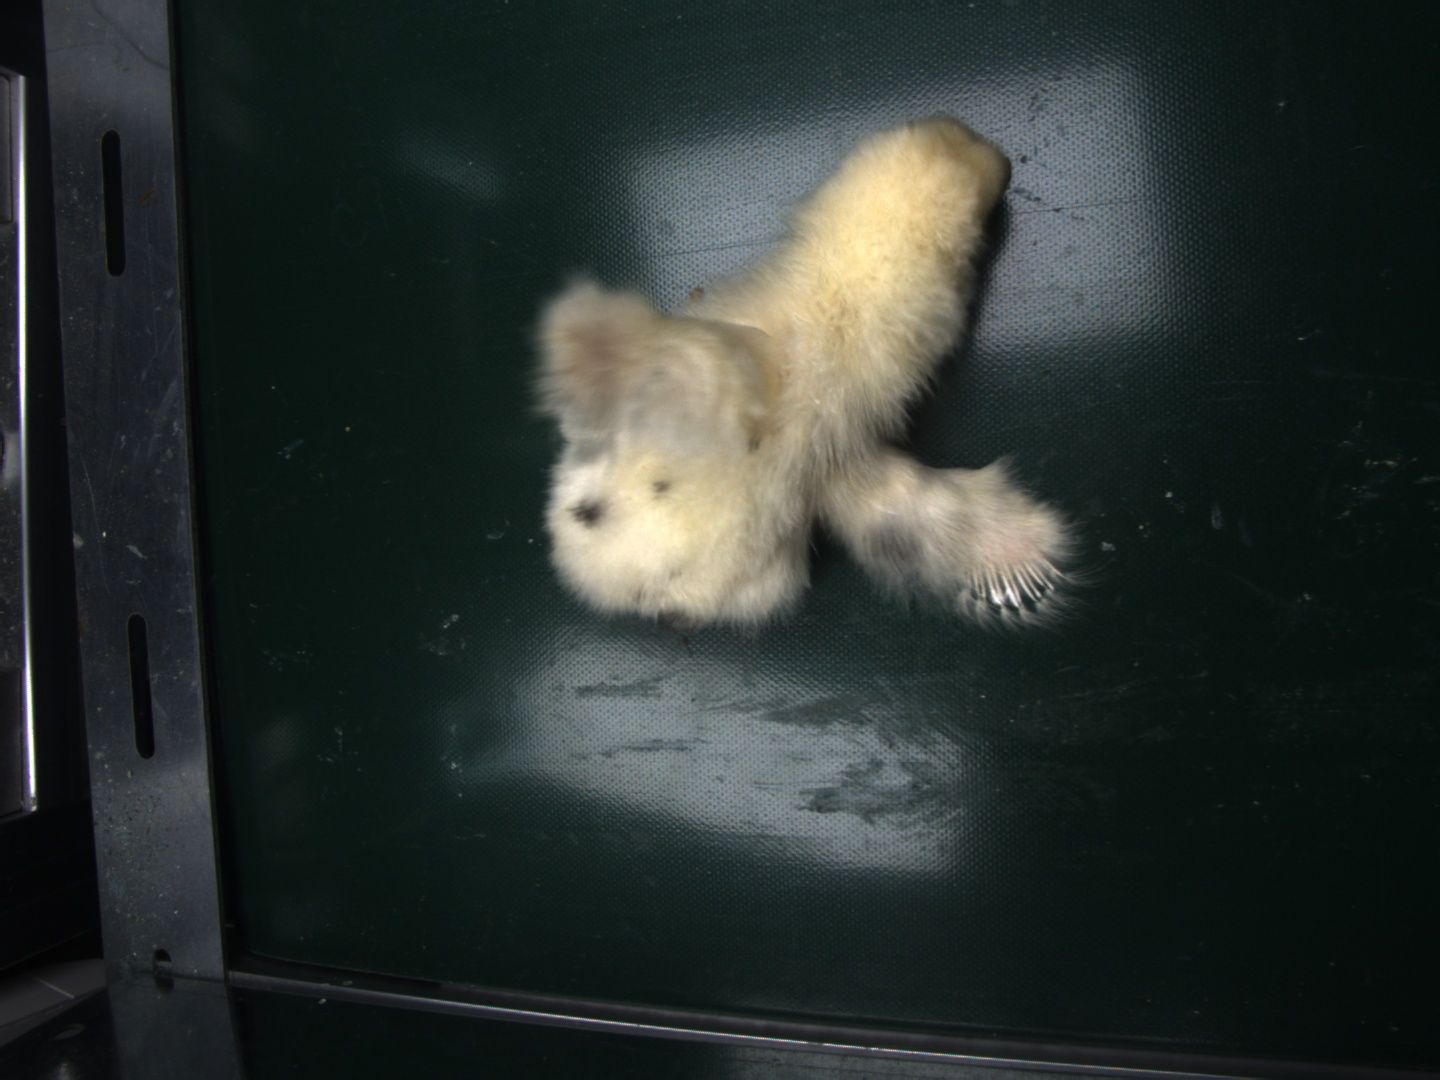male: (967, 556, 1069, 609)
